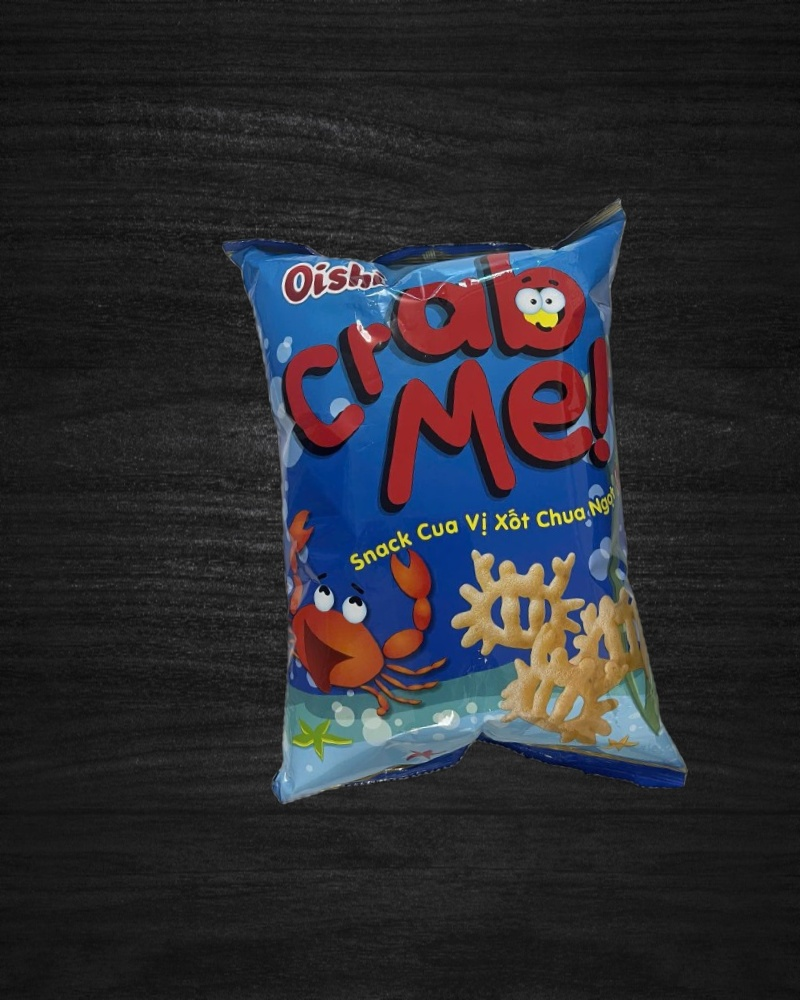Snack chay: (221, 197, 690, 825)
